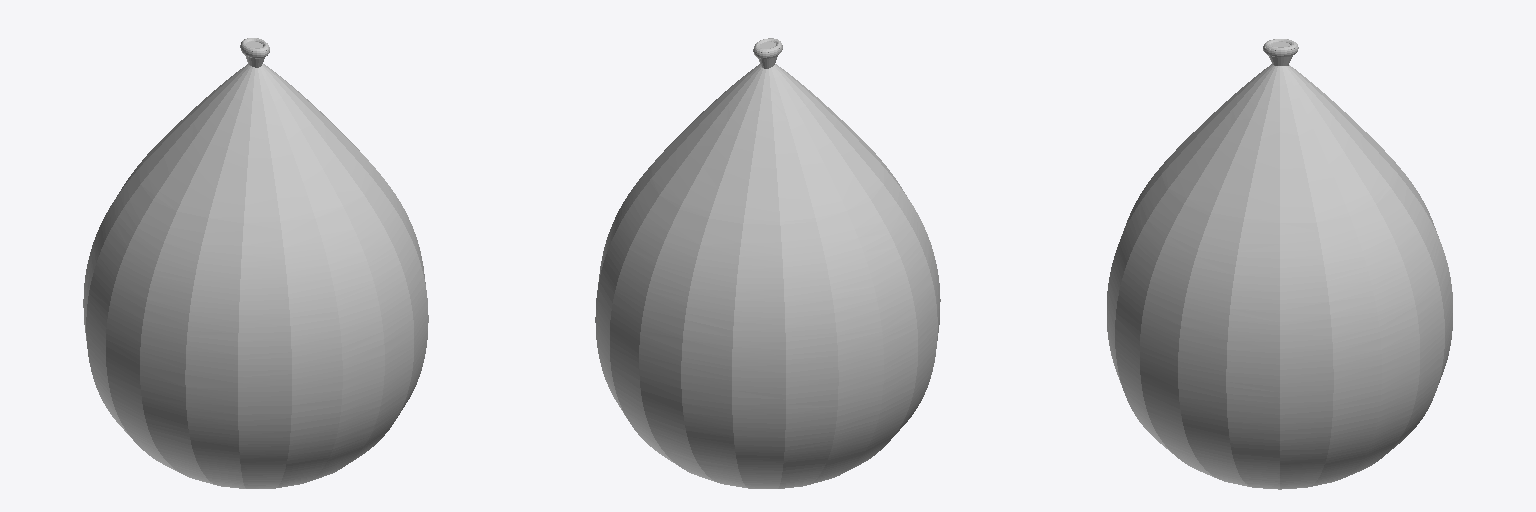
The model's file is balloon.obj.
3 renders of one model, left to right at view 1: azimuth 30°, elevation 25°; view 2: azimuth 150°, elevation 25°; view 3: azimuth 270°, elevation 25°, orthographic.
Visible parts, largest first — view 1: obj_0; view 2: obj_0; view 3: obj_0.
Boxes of the visible parts, box(x1,y1,x2,y2) form: obj_0: box(83, 38, 428, 488); obj_0: box(595, 38, 940, 488); obj_0: box(1107, 39, 1452, 489).
Size of the model in its own units: 318 by 430 by 318.